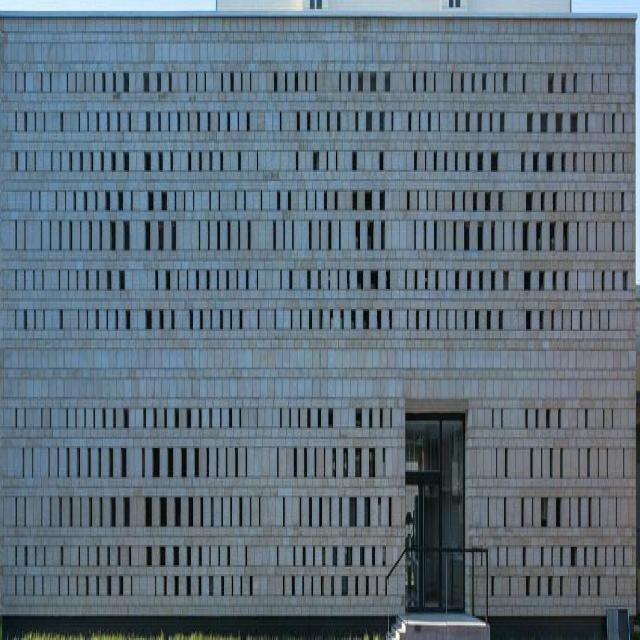door: (407, 468, 442, 612)
window: (406, 414, 465, 615)
